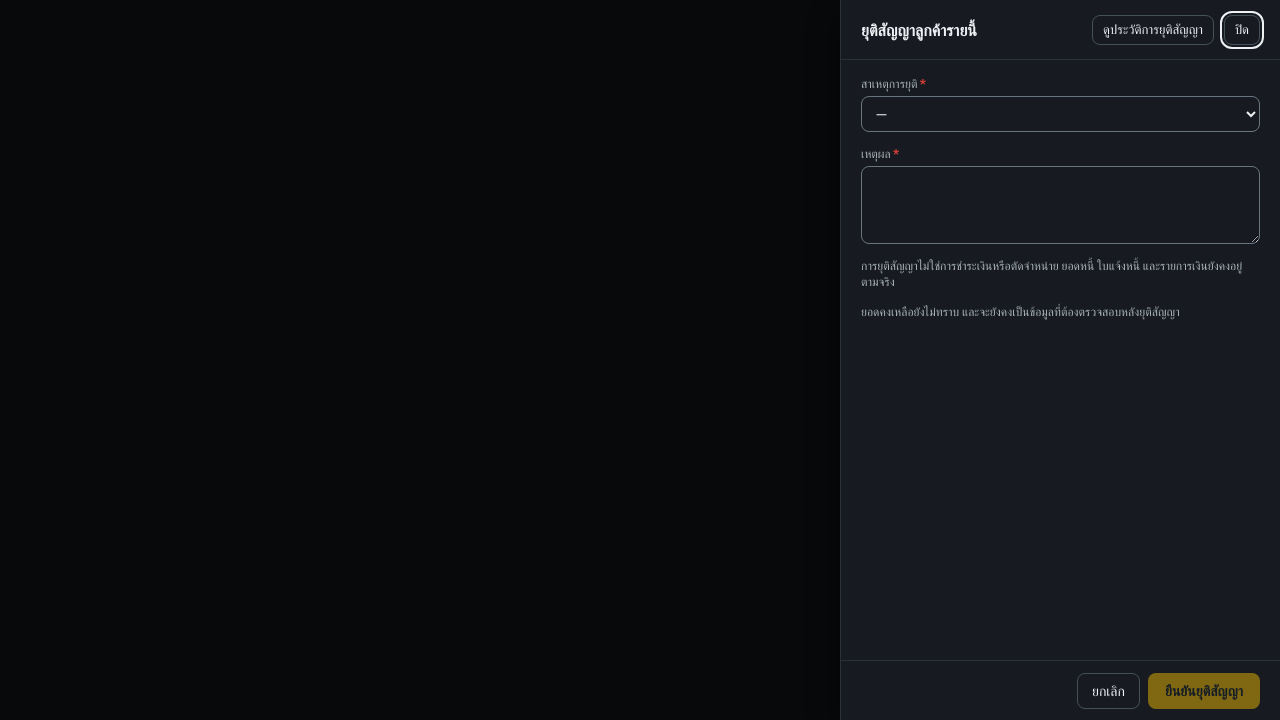
Test case: TerminateDrawer › will not submit without a cause and a reason, then sends both
expect the button "ยืนยันยุติสัญญา" is disabled: met, box x1=1148 y1=672 x2=1260 y2=708
Select "ลูกค้าขอยุติ" in the dropdown labelled "สาเหตุการยุติ*" at [1060, 114], box x1=861 y1=96 x2=1260 y2=132
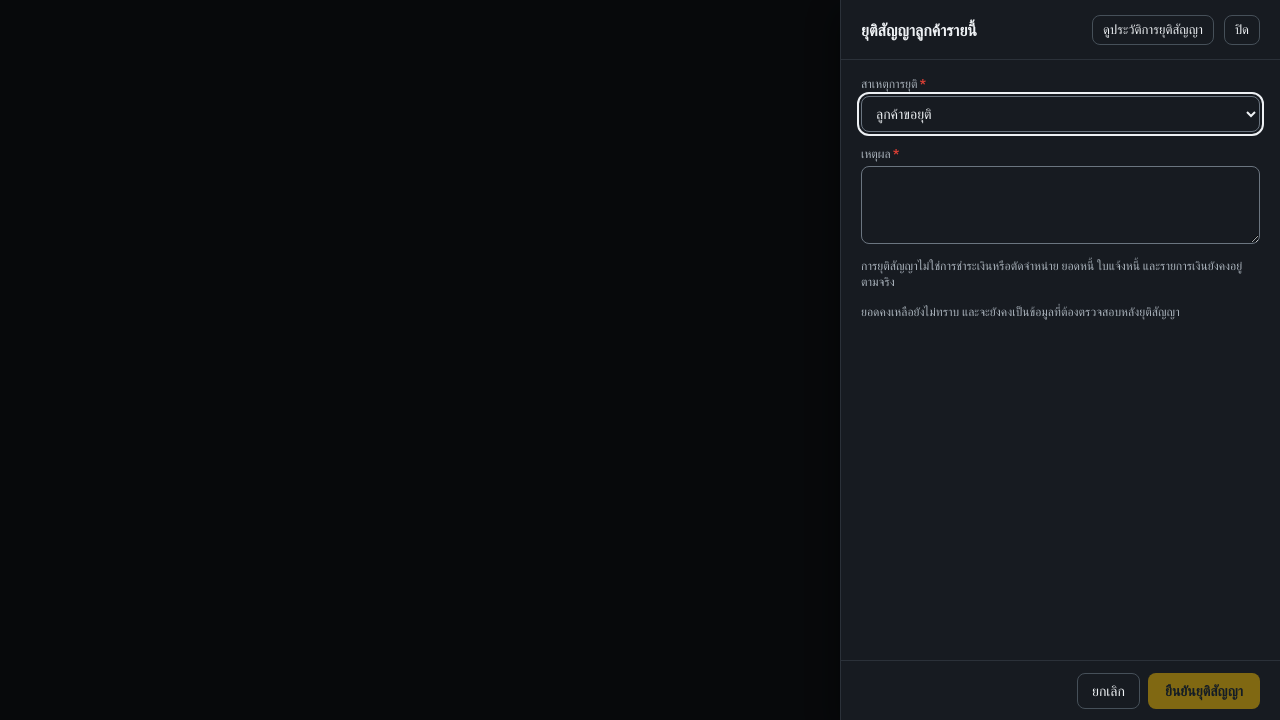
expect the button "ยืนยันยุติสัญญา" is disabled: met, box x1=1148 y1=672 x2=1260 y2=708
Type "ลูกค้าแจ้งขอยกเลิกทาง LINE" into the text box labelled "เหตุผล*" at [1060, 205], box x1=861 y1=166 x2=1260 y2=244
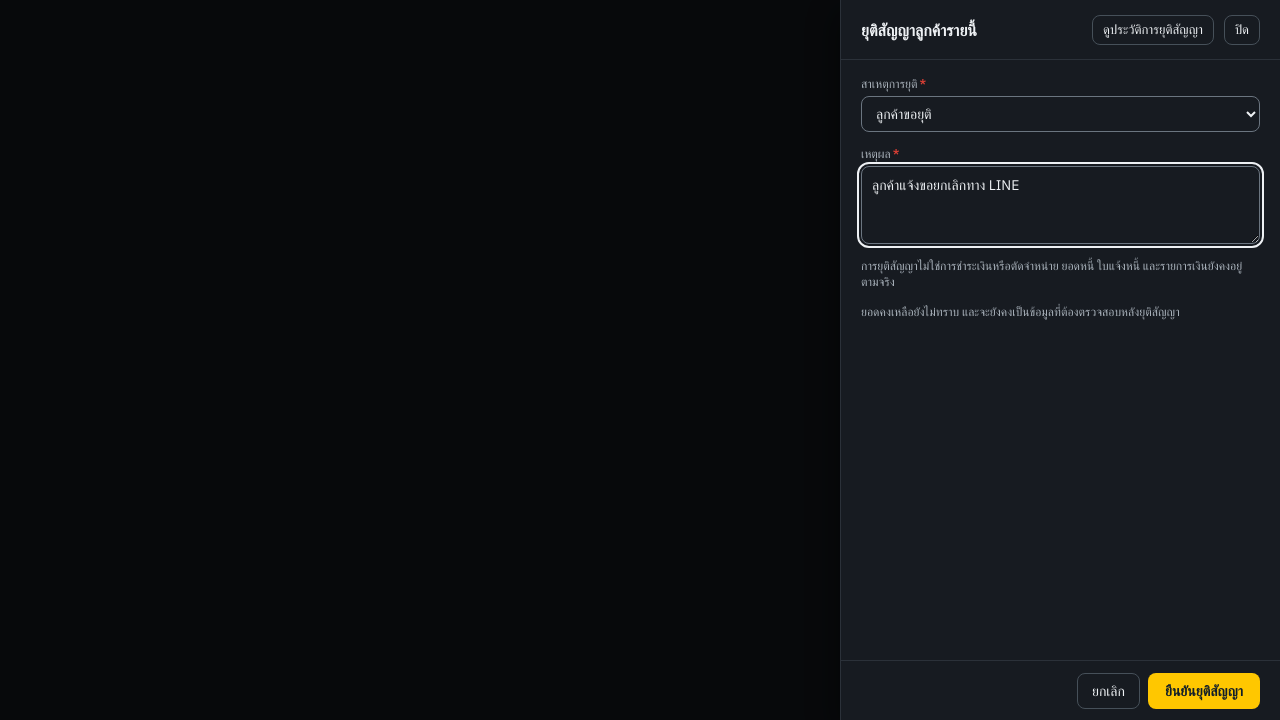
expect the button "ยืนยันยุติสัญญา" is enabled: met
Click the button "ยืนยันยุติสัญญา" at [1204, 690], box x1=1148 y1=672 x2=1260 y2=708
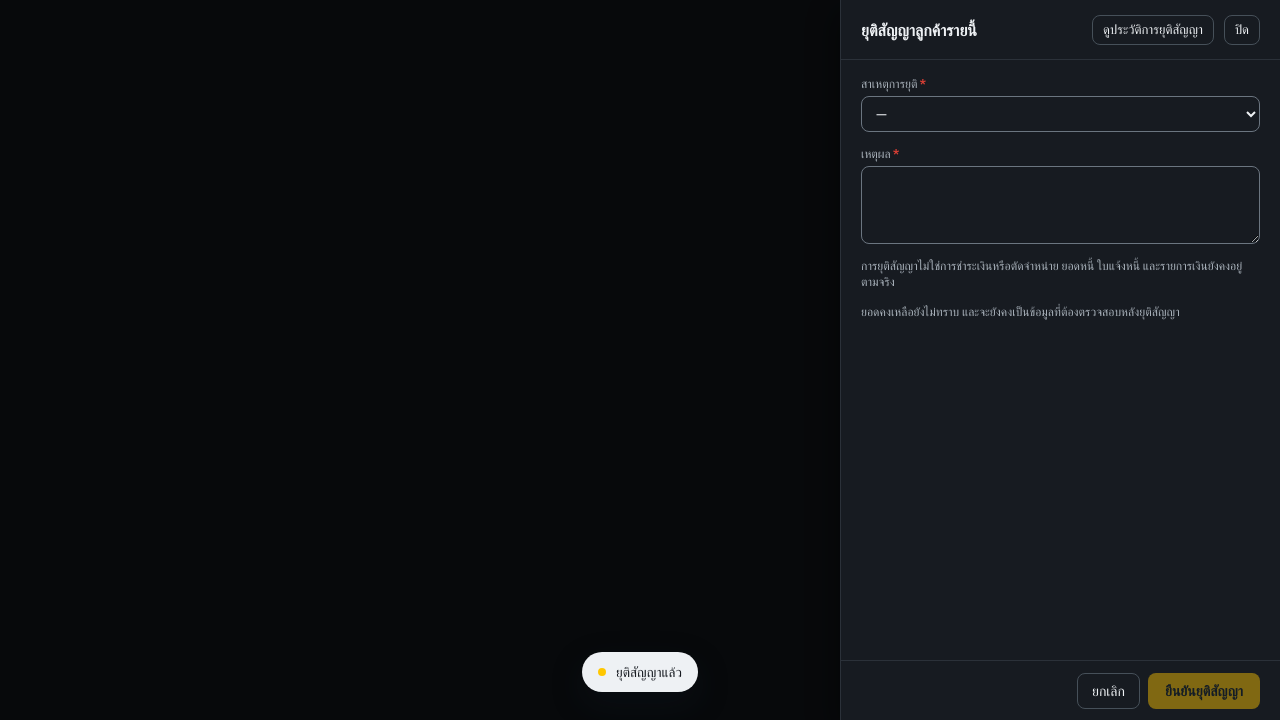
expect the message reads "ยุติสัญญาแล้ว": met, box x1=616 y1=663 x2=682 y2=681
